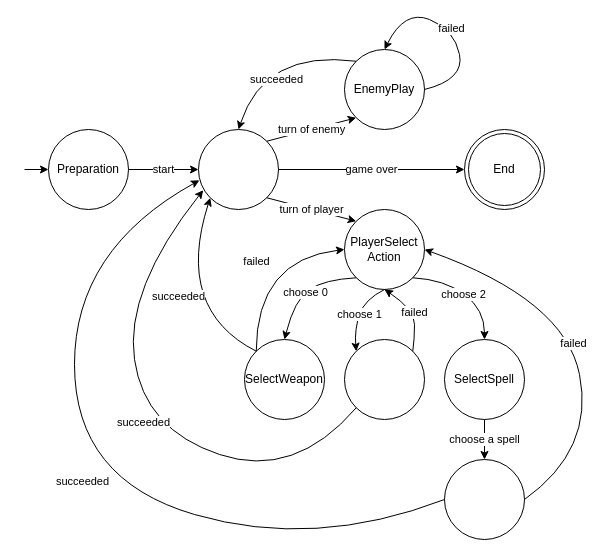
This 604x558 diagram has some shape labels left out. Here are the shapes that lost their labels. From the top down, the centre of each, then its label:
[238,169]: NewTurn
[384,379]: SelectAttack Target
[484,499]: SelectSpell Targer
